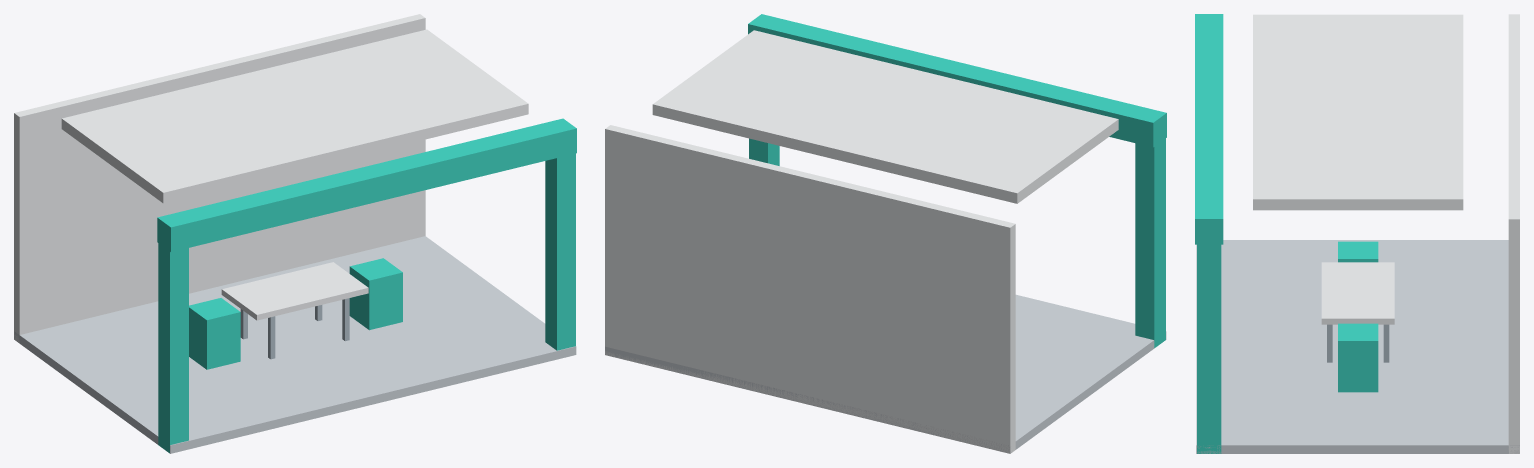
3 views of the same model, side by side, from view 1: azimuth 30°, elevation 25°; view 2: azimuth 150°, elevation 25°; view 3: azimuth 270°, elevation 25° (orthographic). The views are drawn at different scales.
Parts seen in each view (by area): view 1: Exhibition Booth Concept; view 2: Exhibition Booth Concept; view 3: Exhibition Booth Concept.
Part boxes in pixels (x1,y1,x2,y2): Exhibition Booth Concept: [14, 14, 576, 453]; Exhibition Booth Concept: [605, 14, 1166, 453]; Exhibition Booth Concept: [1195, 14, 1519, 453].
Bounding box in the file's own units: 6 × 3.34 × 4.02.
